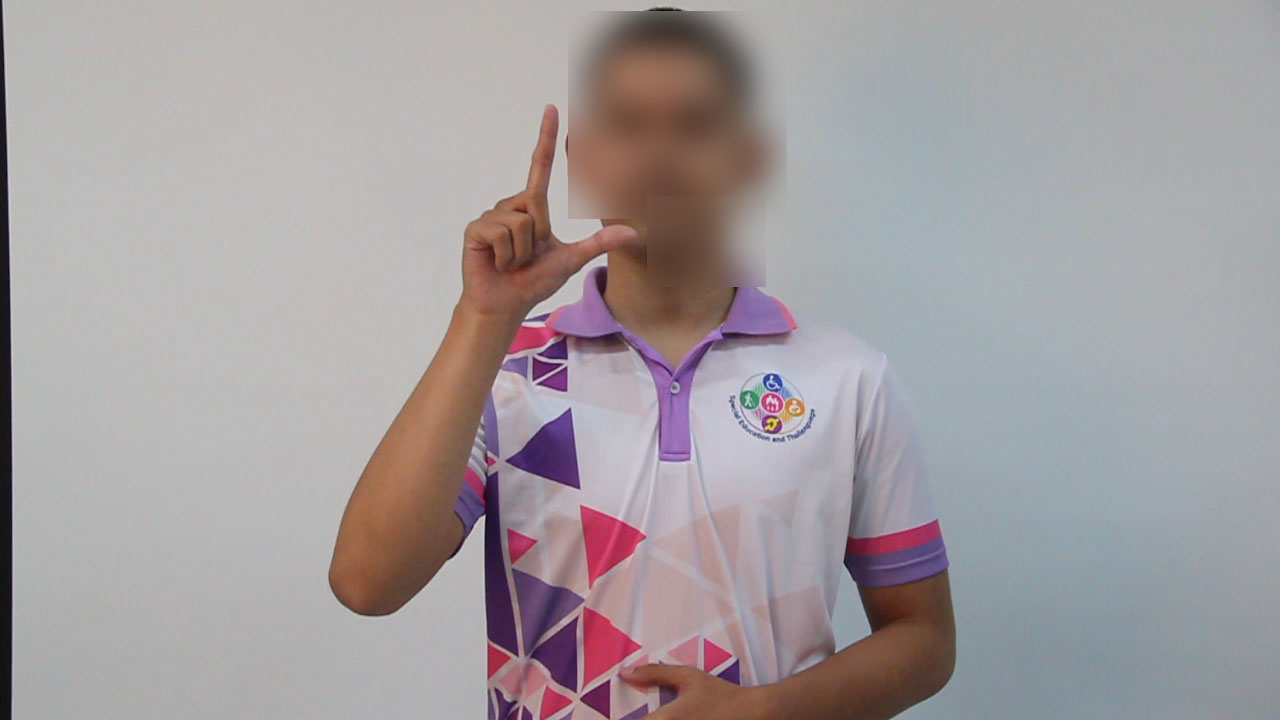lor: (390, 95, 642, 347)
